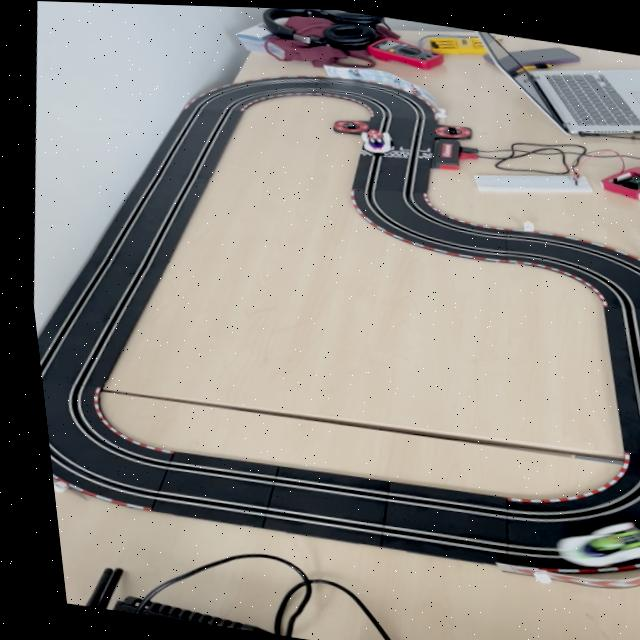mario: (351, 124, 398, 157)
yoshi: (524, 503, 640, 582)
